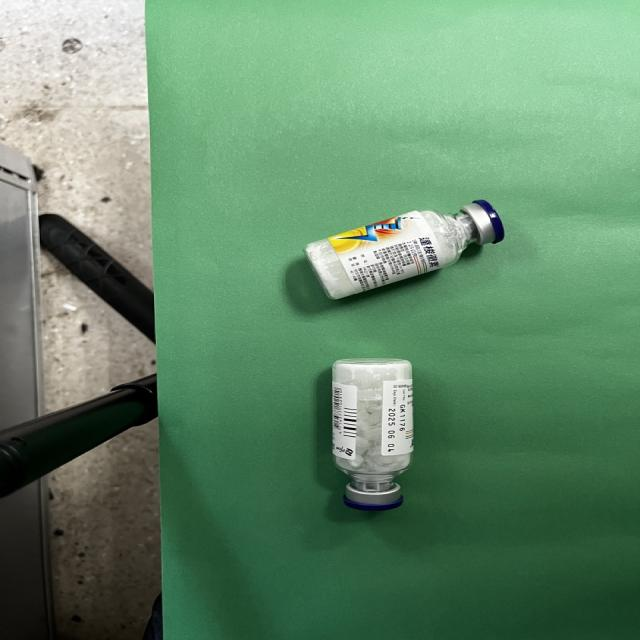Vials: (305, 200, 505, 302), (331, 360, 415, 512)
